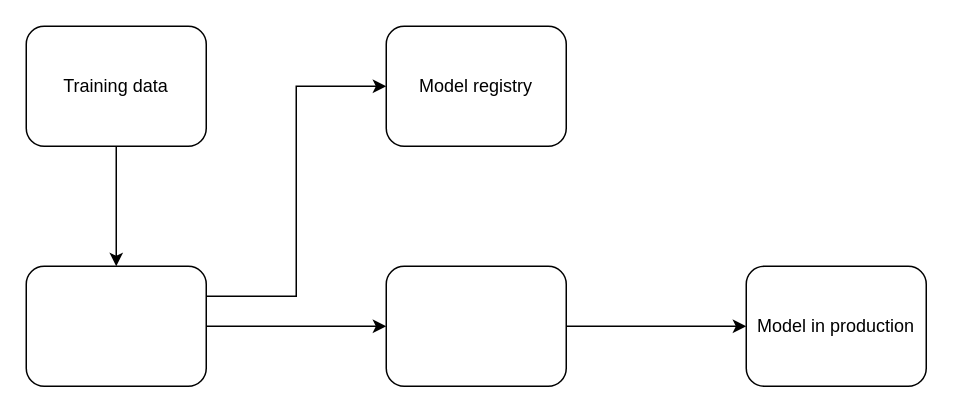
Some shapes in this 953 by 413 pixel diagram are drawn without their labels. The shapes that lost their labels are listed below. From the top down, each one's centre as x and y in pixels, then its label:
At (x=115, y=325): "Model training".
At (x=475, y=325): "Model validation and testing".
